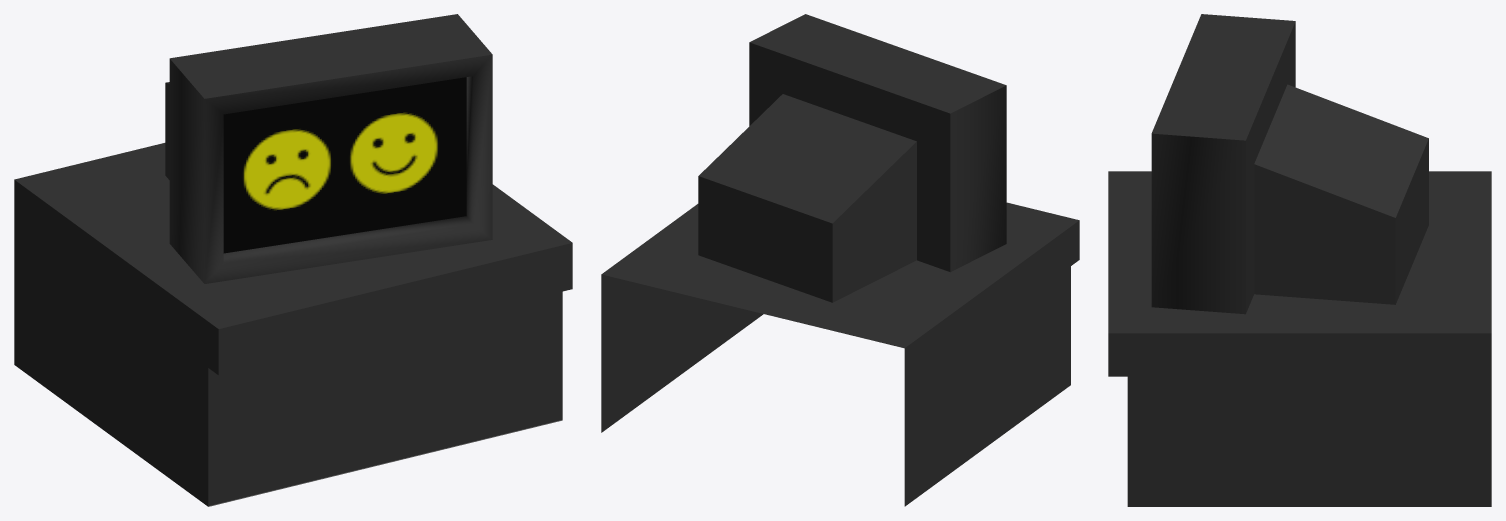
File: terminal.dae
3 renders of one model, left to right at view 1: azimuth 30°, elevation 25°; view 2: azimuth 150°, elevation 25°; view 3: azimuth 270°, elevation 25°, orthographic. The views are drawn at different scales.
Visible parts, largest first — view 1: Regroup04, Regroup03, Regroup09, Regroup07, Regroup01, Regroup02, Regroup06; view 2: Regroup03, Regroup07, Regroup01, Regroup06; view 3: Regroup03, Regroup07, Regroup01, Regroup06.
Part boxes in pixels (x1,y1,x2,y2): Regroup04: [208, 291, 562, 506]; Regroup03: [165, 14, 492, 283]; Regroup09: [223, 77, 466, 253]; Regroup07: [14, 226, 208, 506]; Regroup01: [14, 143, 572, 328]; Regroup02: [218, 243, 572, 375]; Regroup06: [14, 180, 218, 374]; Regroup03: [698, 14, 1006, 302]; Regroup07: [601, 266, 1070, 506]; Regroup01: [601, 202, 1079, 348]; Regroup06: [601, 220, 1079, 387]; Regroup03: [1151, 14, 1428, 314]; Regroup07: [1127, 376, 1491, 506]; Regroup01: [1108, 171, 1491, 333]; Regroup06: [1108, 333, 1491, 376].
Bounding box in the file's own units: 4 × 4 × 4.
